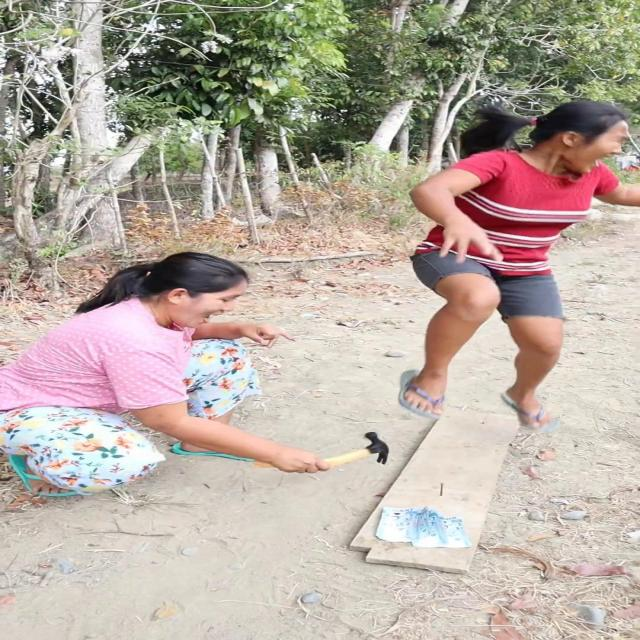hammer: (305, 428, 394, 478)
